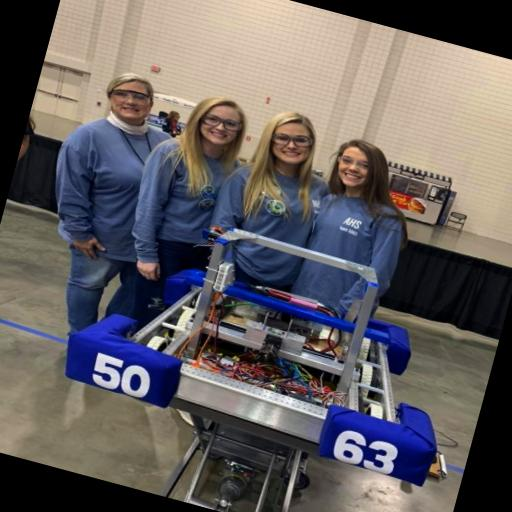robot: (40, 188, 478, 486)
